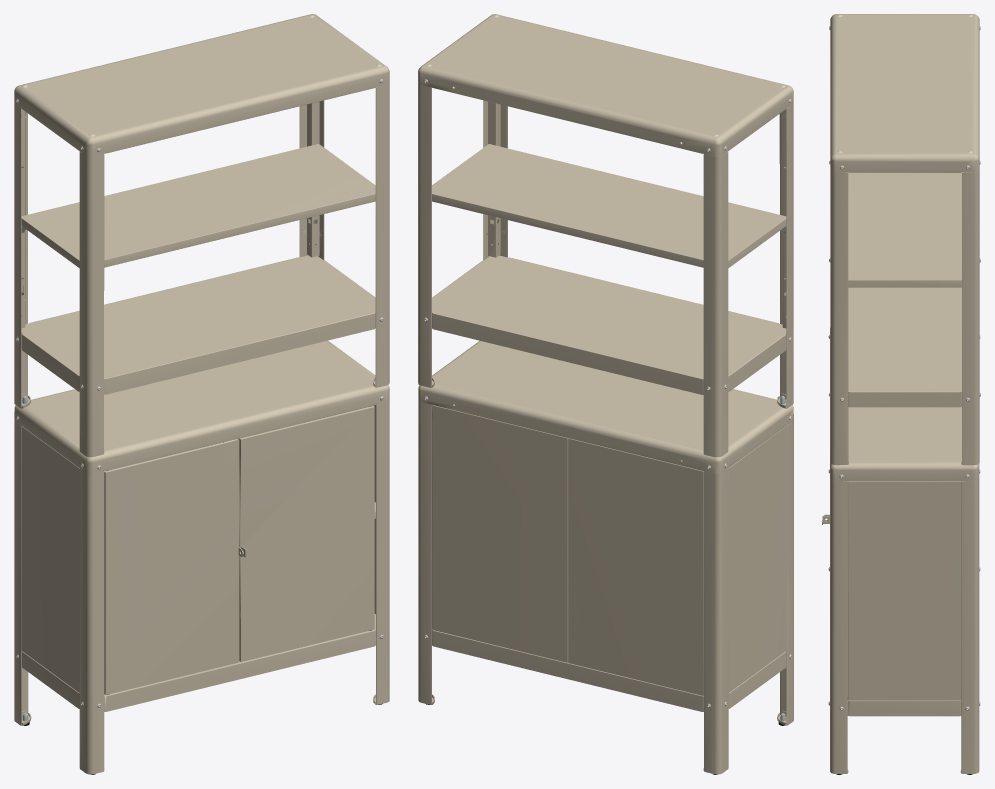
The model's file is kolbjorn_rega_z_szafka_19291645.glb.
3 renders of one model, left to right at view 1: azimuth 30°, elevation 25°; view 2: azimuth 150°, elevation 25°; view 3: azimuth 270°, elevation 25°, orthographic. The views are drawn at different scales.
Parts seen in each view (by area): view 1: kolbjorn_rega_z_szafka_19291645; view 2: kolbjorn_rega_z_szafka_19291645; view 3: kolbjorn_rega_z_szafka_19291645.
Part boxes in pixels (<box>): kolbjorn_rega_z_szafka_19291645: <box>14,14,389,774</box>; kolbjorn_rega_z_szafka_19291645: <box>418,14,793,774</box>; kolbjorn_rega_z_szafka_19291645: <box>822,14,980,774</box>.
Size of the model in its own units: 0.8058 by 1.61 by 0.3724.
Materials: 1 (1 with a texture image).
